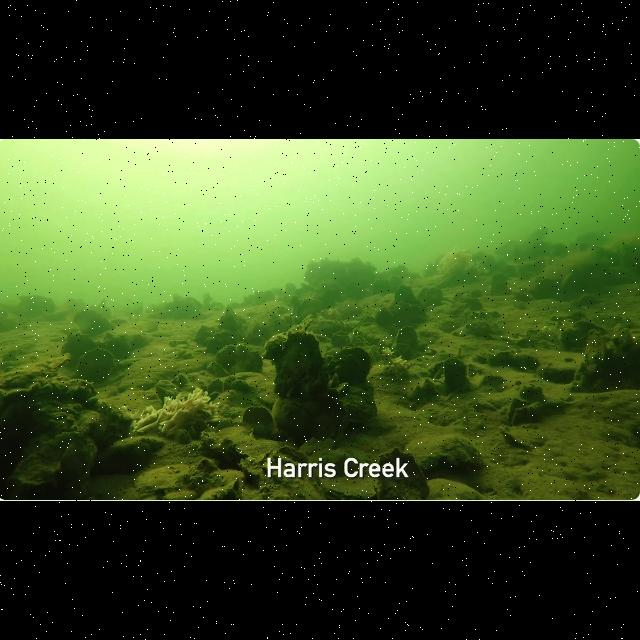Oyster-Closed: (570, 332, 640, 388), (270, 332, 326, 394), (409, 432, 486, 476), (374, 449, 432, 501), (0, 354, 72, 394), (316, 471, 396, 502), (130, 462, 198, 494), (414, 474, 486, 502), (326, 346, 374, 386), (99, 433, 169, 459), (79, 346, 123, 386), (264, 318, 312, 352), (535, 357, 585, 385), (240, 404, 282, 436), (238, 454, 286, 482), (63, 438, 99, 474), (510, 398, 556, 424), (442, 355, 470, 395), (499, 426, 537, 454), (40, 429, 80, 455), (73, 310, 115, 334), (200, 428, 234, 454), (64, 333, 104, 355), (402, 377, 442, 399), (524, 274, 560, 298), (419, 403, 458, 425), (556, 268, 584, 298), (212, 466, 250, 488), (105, 328, 157, 344), (470, 372, 510, 392), (236, 344, 264, 371), (486, 273, 514, 299), (554, 328, 586, 350), (107, 336, 141, 356), (510, 349, 538, 373), (208, 330, 238, 352), (503, 396, 527, 422), (392, 299, 423, 319), (157, 378, 179, 406), (467, 317, 495, 339), (200, 484, 234, 502), (214, 345, 243, 365), (483, 349, 515, 367), (518, 384, 550, 402), (218, 307, 244, 329), (366, 276, 394, 296), (571, 320, 611, 334), (195, 322, 219, 343), (392, 283, 416, 303), (389, 360, 413, 380), (418, 288, 448, 302), (367, 343, 389, 362), (457, 296, 483, 310), (220, 374, 238, 394), (204, 378, 226, 394), (372, 307, 394, 323), (332, 328, 348, 347), (182, 382, 210, 392), (232, 378, 252, 392), (212, 362, 230, 376), (357, 314, 377, 326), (173, 373, 190, 387), (326, 387, 340, 397)
Oyster-Open: (386, 320, 424, 360), (274, 444, 314, 474), (174, 427, 192, 443), (338, 381, 350, 395), (210, 390, 218, 400)
